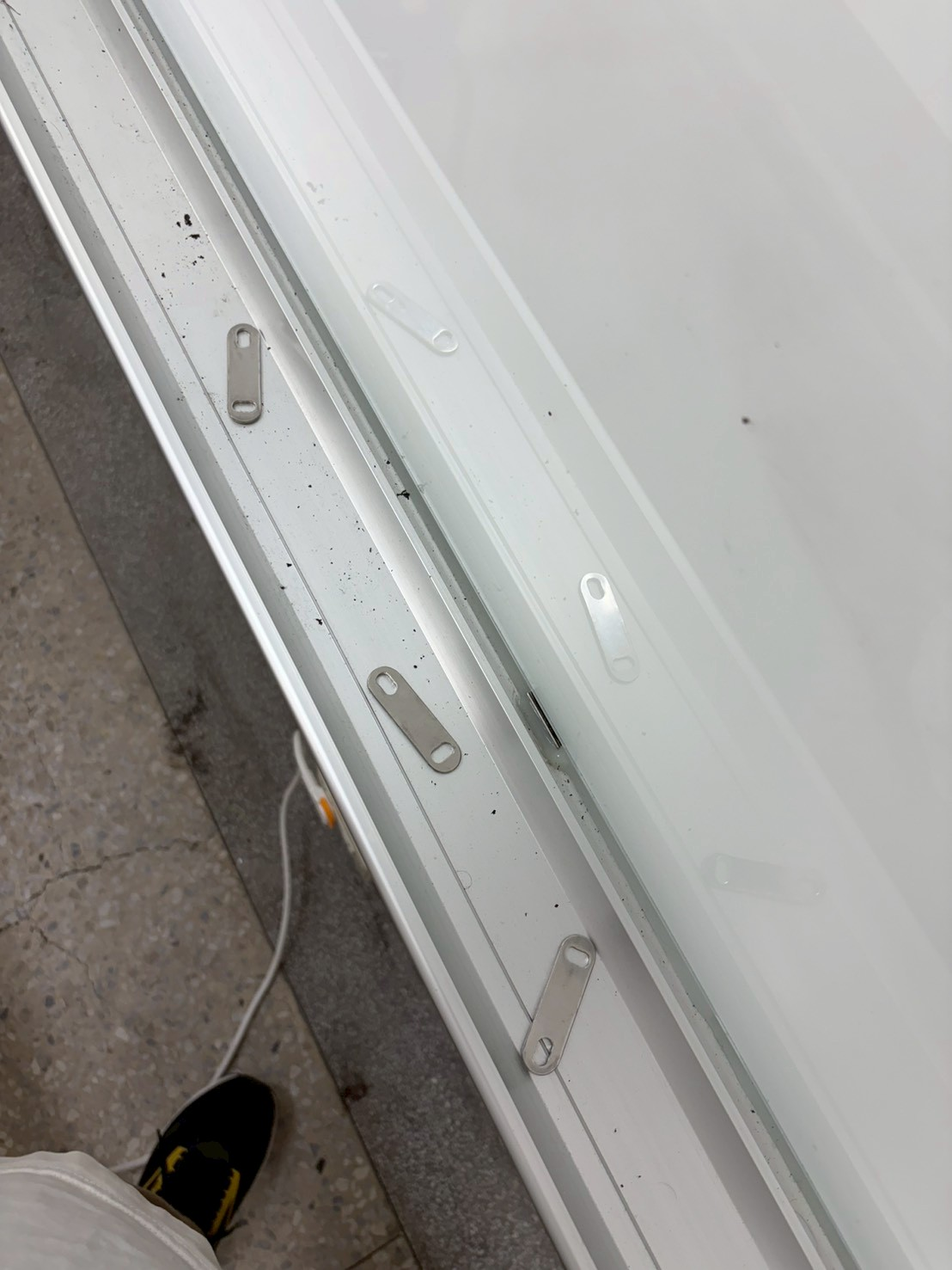Fe: (563, 923, 612, 1084), (476, 758, 523, 895), (222, 316, 267, 435)
